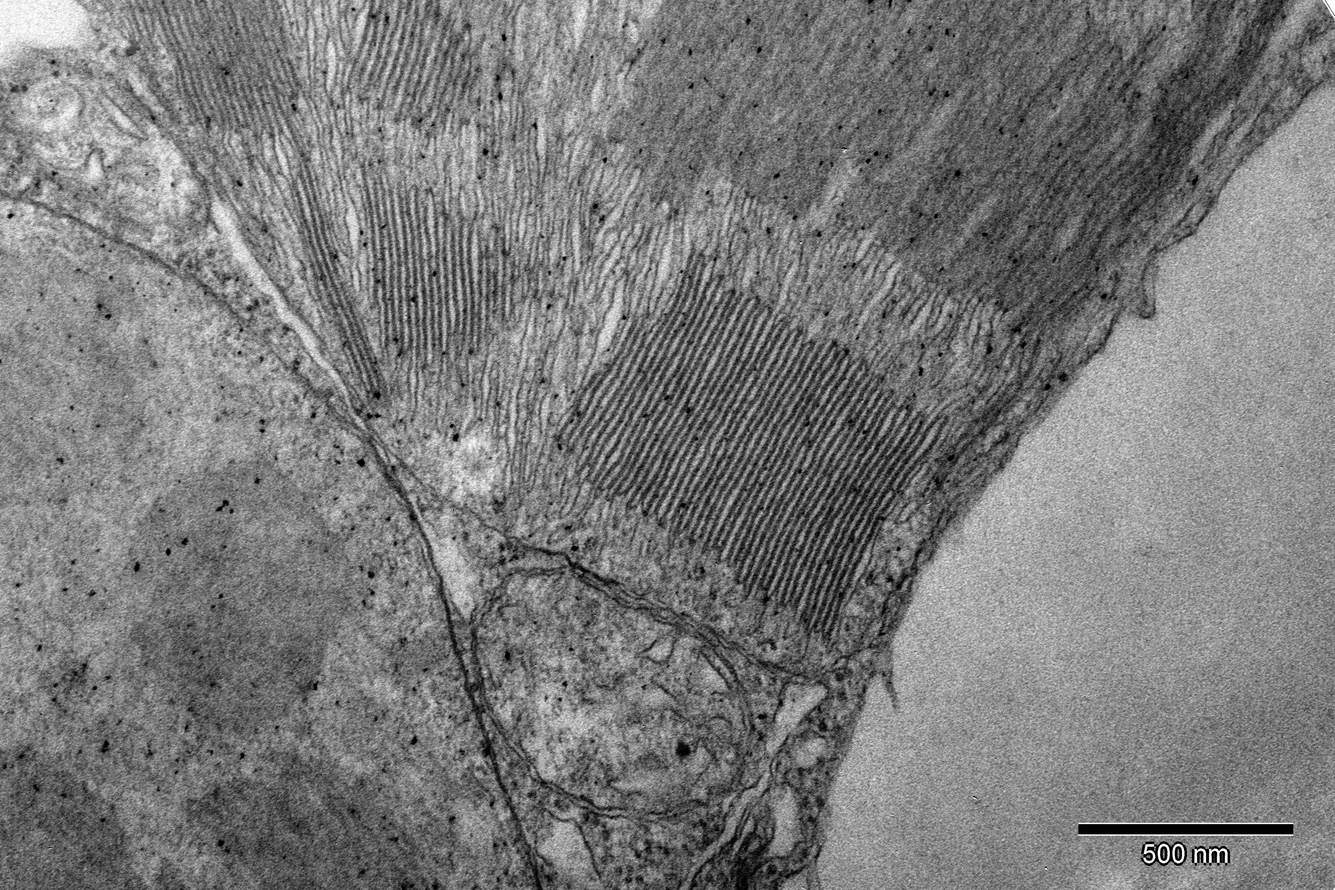granum: (589, 0, 1301, 368), (543, 236, 958, 654), (357, 172, 530, 360), (79, 0, 310, 140), (282, 160, 398, 410), (330, 0, 479, 146)
